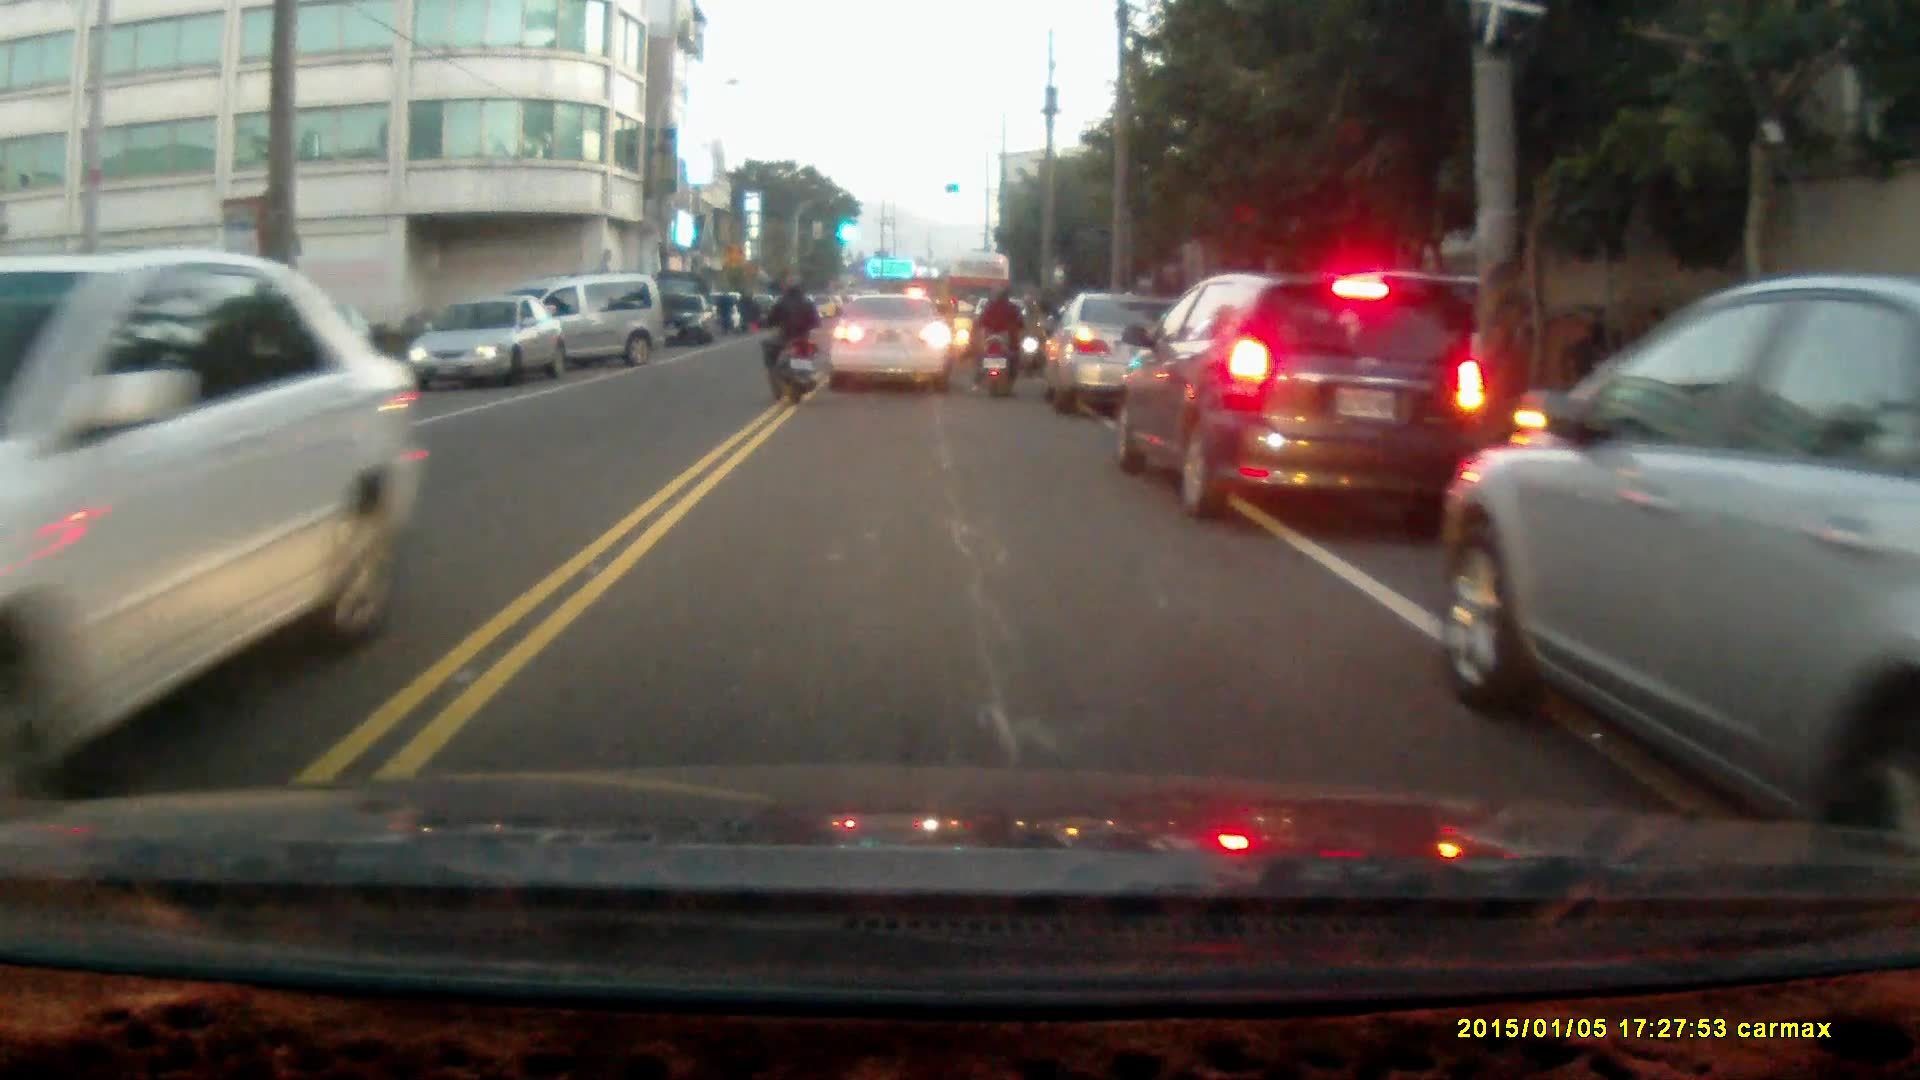pedestrian: (1571, 304, 1617, 442)
rider: (760, 277, 821, 402), (969, 275, 1027, 399)
vehicle: (1438, 268, 1920, 850), (1, 257, 412, 814), (1106, 265, 1488, 520), (403, 289, 568, 390), (1046, 292, 1180, 414), (512, 271, 666, 372), (830, 289, 951, 397), (659, 291, 715, 345)
